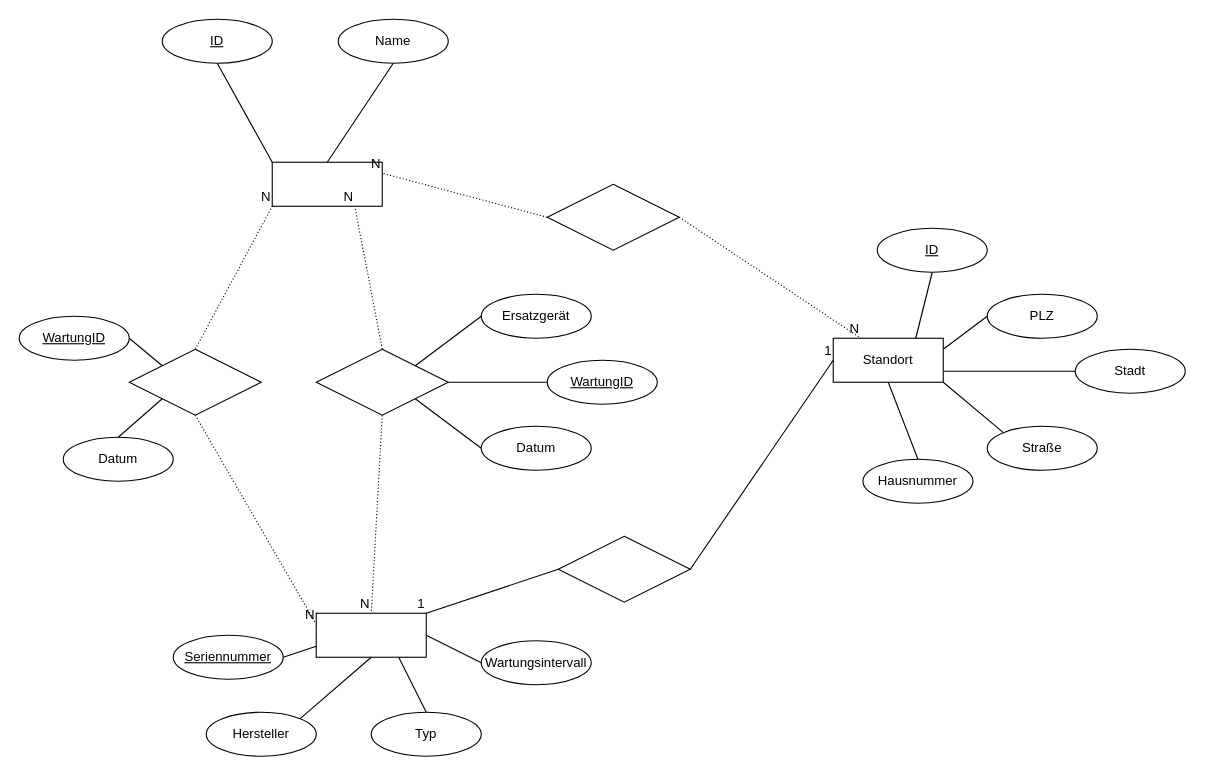
Some shapes in this 1205 by 776 pixel diagram are drawn without their labels. The shapes that lost their labels are listed below. From the top down, each one's centre as x and y in pixels, then its label:
point 326,183: Techniker
point 612,216: Zuständig
point 194,381: Wartungsplan
point 381,381: Wartung
point 623,568: steht an
point 370,634: Gerät
